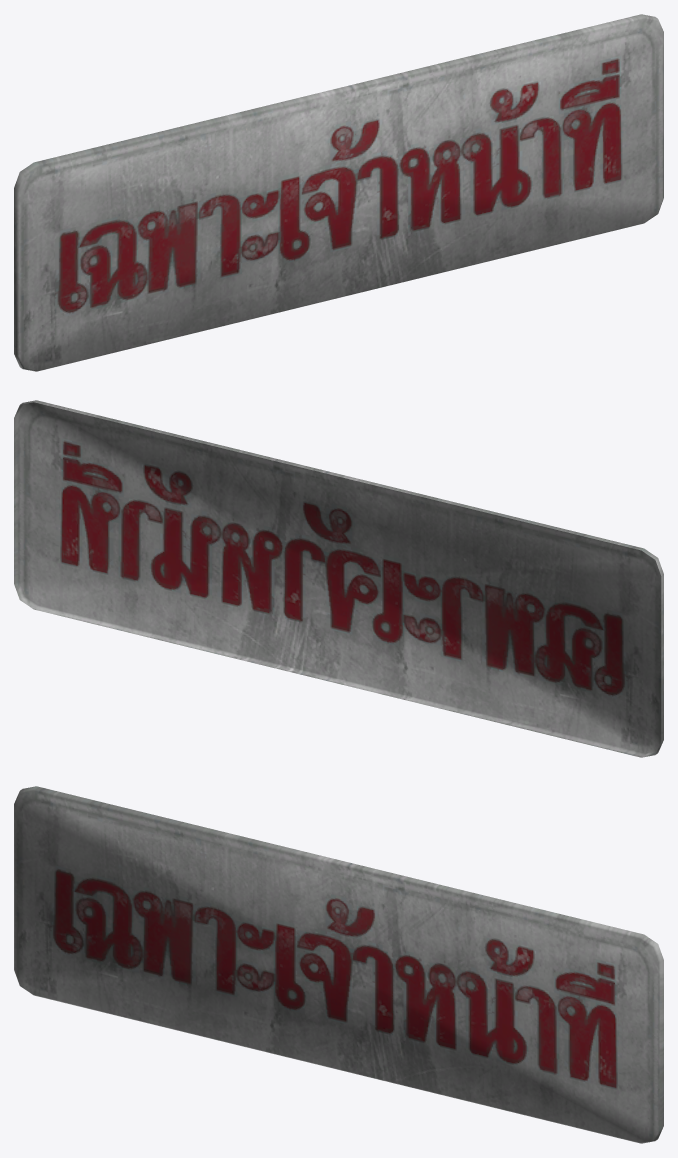
The model's file is sign01.FBX.
3 views of the same model, one above another, from view 1: azimuth 30°, elevation 25°; view 2: azimuth 150°, elevation 25°; view 3: azimuth 330°, elevation 25° (orthographic).
Visible parts, largest first — view 1: SM_Sign01; view 2: SM_Sign01; view 3: SM_Sign01.
Part boxes in pixels (x1,y1,x2,y2): SM_Sign01: (14, 14, 663, 371); SM_Sign01: (14, 400, 663, 757); SM_Sign01: (14, 786, 663, 1143).
Size of the model in its own units: 50.39 by 15.42 by 0.5.
1 material, 1 textured.
